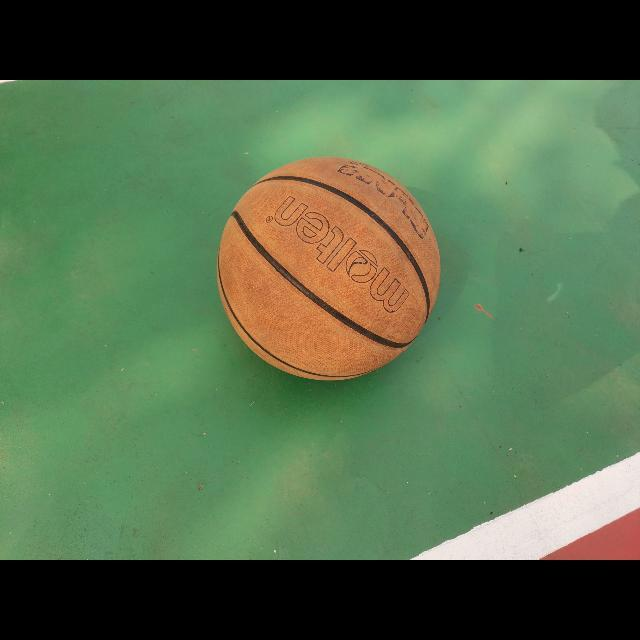basketball: (218, 160, 440, 382)
